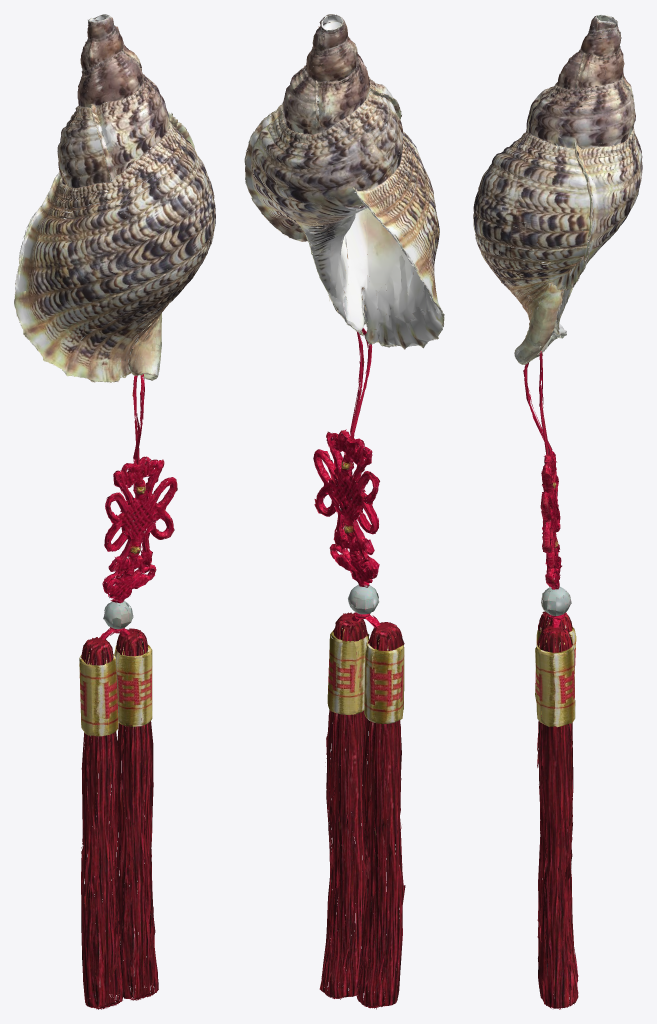
The model's file is nagak.glb.
3 views of the same model, side by side, from view 1: azimuth 30°, elevation 25°; view 2: azimuth 150°, elevation 25°; view 3: azimuth 270°, elevation 25° (orthographic). The views are drawn at different scales.
Parts seen in each view (by area): view 1: Jongmyo Jerye_Royal Ancestral Ritual in the Jongmyo Shrine_A; view 2: Jongmyo Jerye_Royal Ancestral Ritual in the Jongmyo Shrine_A; view 3: Jongmyo Jerye_Royal Ancestral Ritual in the Jongmyo Shrine_A.
Boxes of the visible parts, x1,y1,x2,y2 form: Jongmyo Jerye_Royal Ancestral Ritual in the Jongmyo Shrine_A: (14, 14, 215, 1009); Jongmyo Jerye_Royal Ancestral Ritual in the Jongmyo Shrine_A: (244, 14, 444, 1009); Jongmyo Jerye_Royal Ancestral Ritual in the Jongmyo Shrine_A: (473, 15, 642, 1009).
Size of the model in its own units: 222 by 1092 by 171.
Materials: 2 (2 with a texture image).
